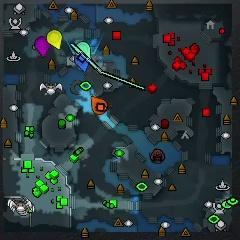p1: (74, 54, 90, 73)
p2: (74, 41, 91, 58)
p3: (34, 36, 51, 58)
p4: (47, 30, 63, 50)
p5: (90, 96, 108, 114)
